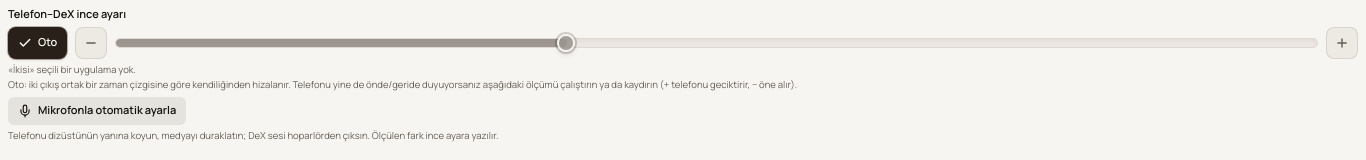
Test case: SyncFineTune: automatic calibration › cancels immediately on click and informs via toast
Click the button with test id "audio-sync-auto" at (97, 111), box [8, 97, 186, 125]
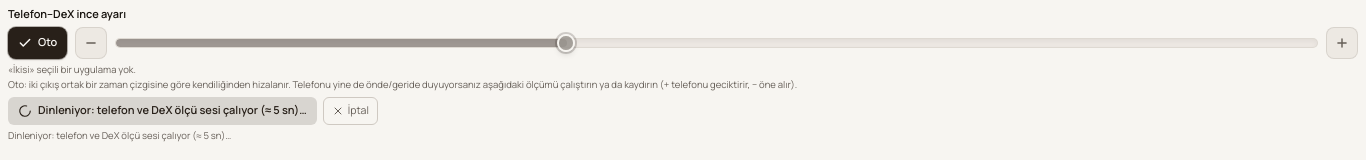
Expected: the button with test id "audio-sync-auto-cancel" is shown
Expected: the button with test id "audio-sync-auto" is disabled, [8, 97, 317, 125]
Click the button with test id "audio-sync-auto-cancel" at (350, 111), box [323, 97, 378, 125]
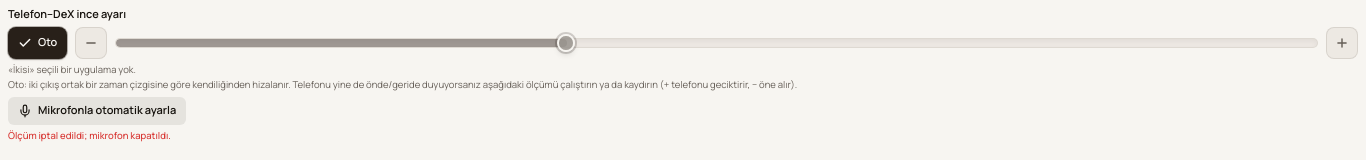
Expected: the button with test id "audio-sync-auto" is enabled, [8, 97, 186, 125]
Expected: the button with test id "audio-sync-auto-cancel" is gone
Expected: the text with test id "audio-sync-auto-status" shows "iptal edildi", [8, 129, 171, 142]
